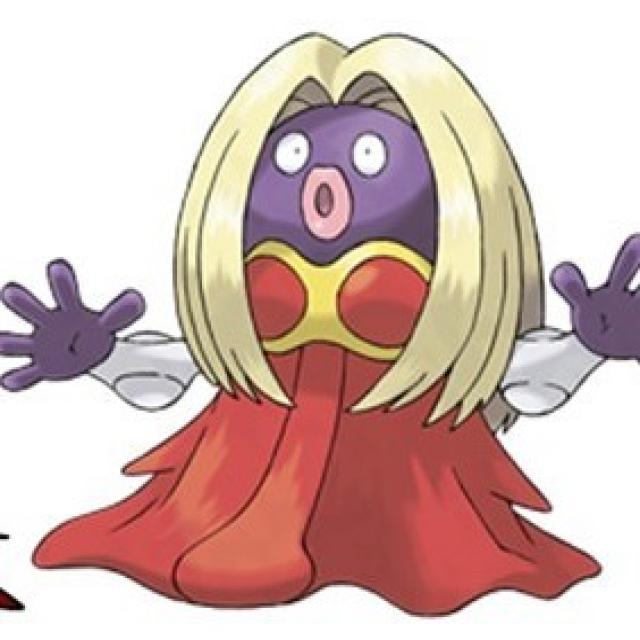Jynx: (148, 24, 570, 588)
